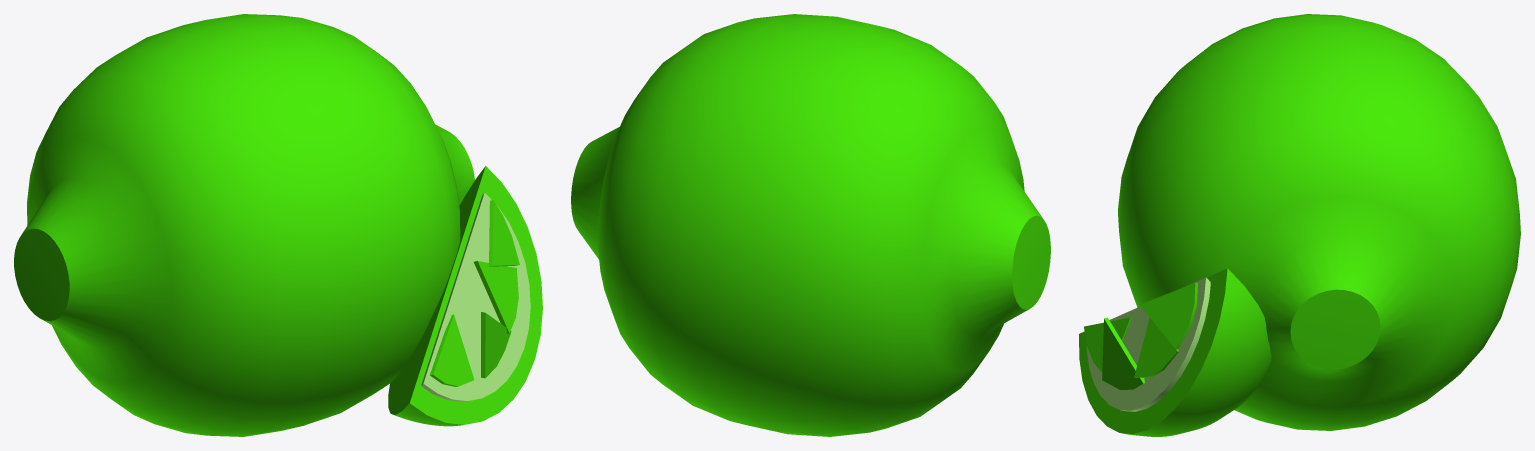
File: lime1.FBX
3 renders of one model, left to right at view 1: azimuth 30°, elevation 25°; view 2: azimuth 150°, elevation 25°; view 3: azimuth 270°, elevation 25°, orthographic. The views are drawn at different scales.
Visible parts, largest first — view 1: Sphere047, Sphere048, Sphere049, Line065, Line062, Line064, Line063; view 2: Sphere047; view 3: Sphere047, Sphere048, Sphere049, Line064, Line063, Line065, Line062.
Boxes of the visible parts, x1=… form: Sphere047: x1=14, y1=14, x2=474, y2=436; Sphere048: x1=388, y1=166, x2=542, y2=426; Sphere049: x1=421, y1=192, x2=530, y2=401; Line065: x1=474, y1=261, x2=518, y2=333; Line062: x1=430, y1=314, x2=474, y2=386; Line064: x1=489, y1=200, x2=519, y2=266; Line063: x1=481, y1=312, x2=511, y2=378; Sphere047: x1=571, y1=14, x2=1050, y2=436; Sphere047: x1=1118, y1=14, x2=1520, y2=430; Sphere048: x1=1079, y1=268, x2=1271, y2=436; Sphere049: x1=1086, y1=277, x2=1210, y2=411; Line064: x1=1140, y1=283, x2=1197, y2=349; Line063: x1=1102, y1=317, x2=1144, y2=389; Line065: x1=1134, y1=317, x2=1178, y2=377; Line062: x1=1084, y1=317, x2=1131, y2=371.
Size of the model in its own units: 4.95 by 4.02 by 4.42.
